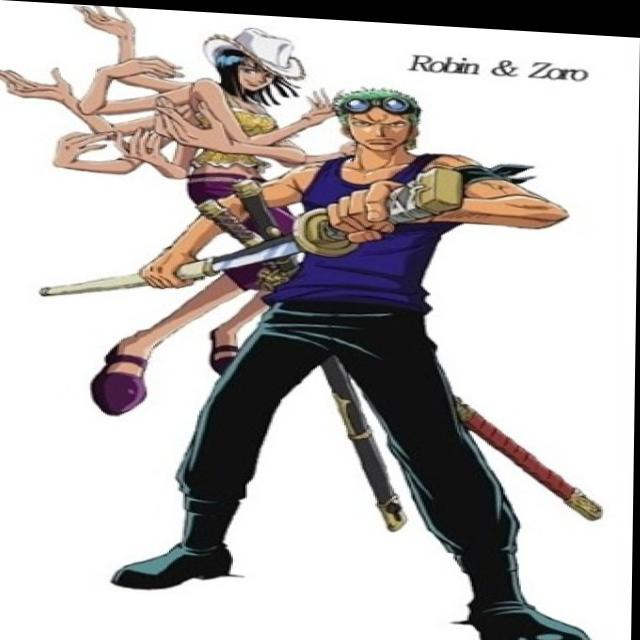NicoRobin: (207, 22, 309, 98)
Zoro: (338, 73, 444, 157)
